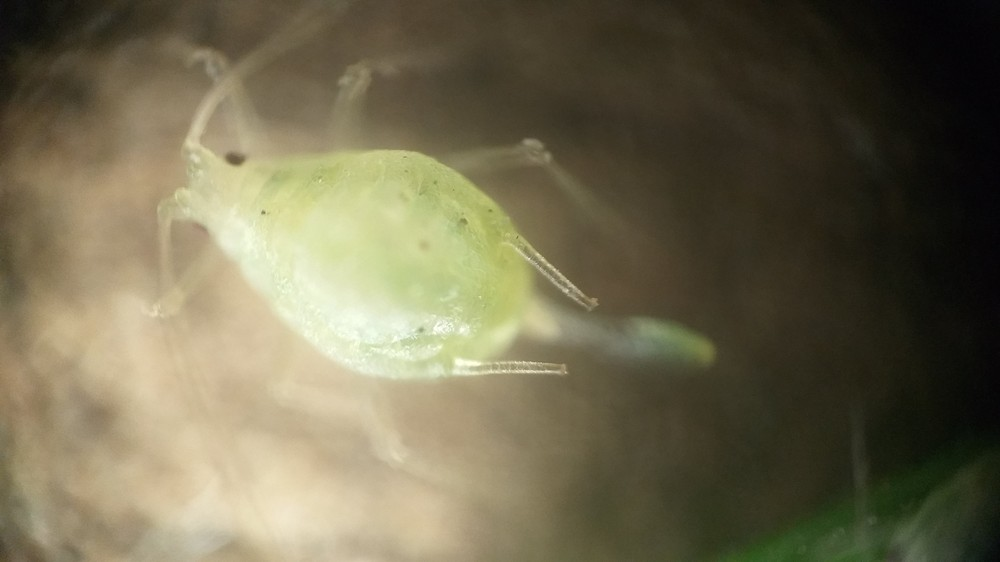Pulgon: (92, 3, 766, 475)
